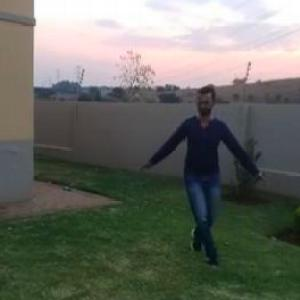land: (147, 77, 269, 274)
